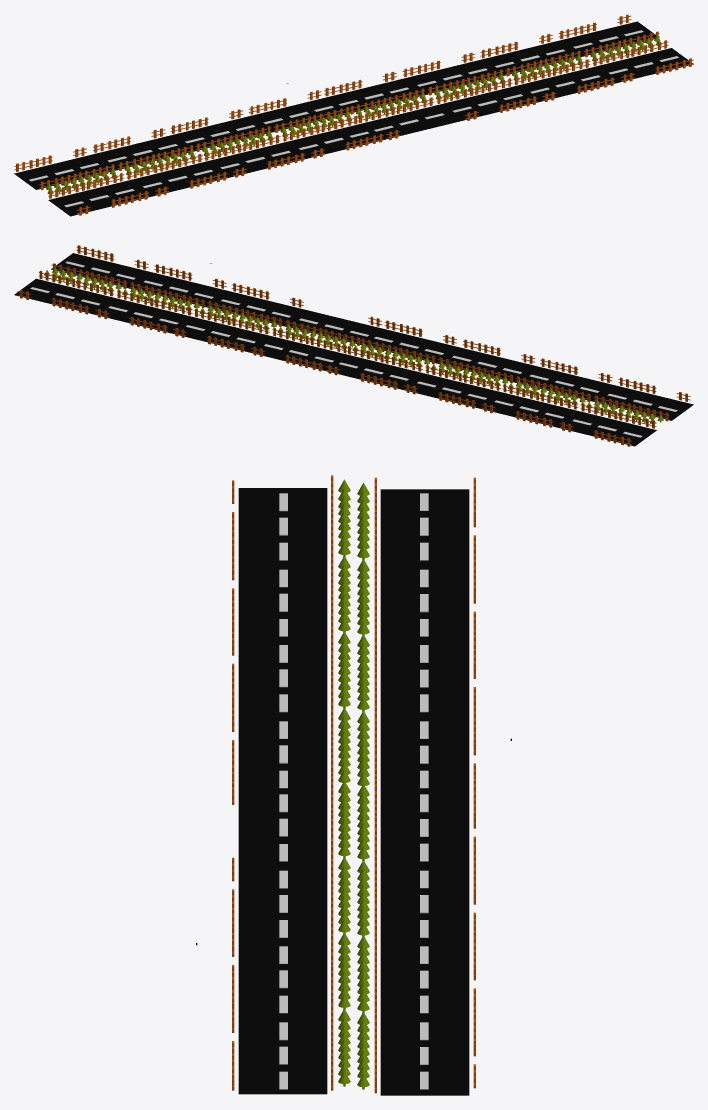
The model's file is rua.glb.
3 renders of one model, top to bottom at view 1: azimuth 30°, elevation 25°; view 2: azimuth 150°, elevation 25°; view 3: azimuth 270°, elevation 25°, orthographic. The views are drawn at different scales.
Parts seen in each view (by area): view 1: Cube.482, Cube.1008, Cube.526, Cube.438, Cube.964, Cube.920, Cube.394, Cube.1052, Cube.791, Cube.747, Cube.262, Cube.130 (+20 smaller); view 2: Cube.218, Cube.876, Cube.791, Cube.040, Cube.130, Cube.262, Cube.747, Cube.832, Cube.1008, Cube.438, Cube.394, Cube.526 (+20 smaller); view 3: Cube.438, Cube.218, Cube.1052, Cube.747, Cube.040, Cube.394, Cube.791, Cube.526, Cube.1008, Cube.482, Cube.130, Cube.262 (+4 smaller).
Boxes of the visible parts, box(x1,y1,x2,y2) form: Cube.482: box(362, 105, 458, 139); Cube.1008: box(48, 180, 148, 216); Cube.526: box(437, 86, 537, 121); Cube.438: box(593, 48, 693, 83); Cube.964: box(283, 123, 378, 158); Cube.920: box(205, 143, 305, 178); Cube.394: box(515, 67, 615, 102); Cube.1052: box(128, 162, 226, 197); Cube.791: box(14, 154, 111, 189); Cube.747: box(92, 135, 193, 170); Cube.262: box(481, 40, 577, 75); Cube.130: box(324, 79, 424, 113); Cube.218: box(14, 278, 113, 314); Cube.876: box(401, 373, 501, 408); Cube.791: box(557, 411, 656, 446); Cube.040: box(171, 316, 269, 351); Cube.130: box(248, 336, 347, 370); Cube.262: box(93, 298, 190, 333); Cube.747: box(479, 392, 578, 427); Cube.832: box(323, 355, 422, 389); Cube.1008: box(594, 385, 693, 420); Cube.438: box(51, 253, 151, 288); Cube.394: box(129, 272, 229, 307); Cube.526: box(206, 291, 305, 326); Cube.438: box(238, 1017, 327, 1094); Cube.218: box(380, 1018, 469, 1095); Cube.1052: box(238, 564, 327, 641); Cube.747: box(380, 565, 469, 642); Cube.040: box(380, 866, 469, 943); Cube.394: box(238, 940, 327, 1017); Cube.791: box(380, 489, 469, 566); Cube.526: box(238, 865, 327, 942); Cube.1008: box(238, 488, 327, 564); Cube.482: box(238, 789, 327, 865); Cube.130: box(380, 790, 469, 866); Cube.262: box(380, 942, 469, 1018).
Bounding box in the file's own units: 581 × 11.62 × 128.
